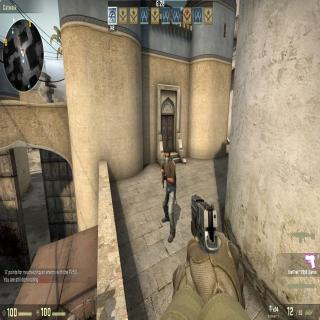T-Body: (161, 146, 176, 241)
T-Head: (164, 146, 171, 164)
